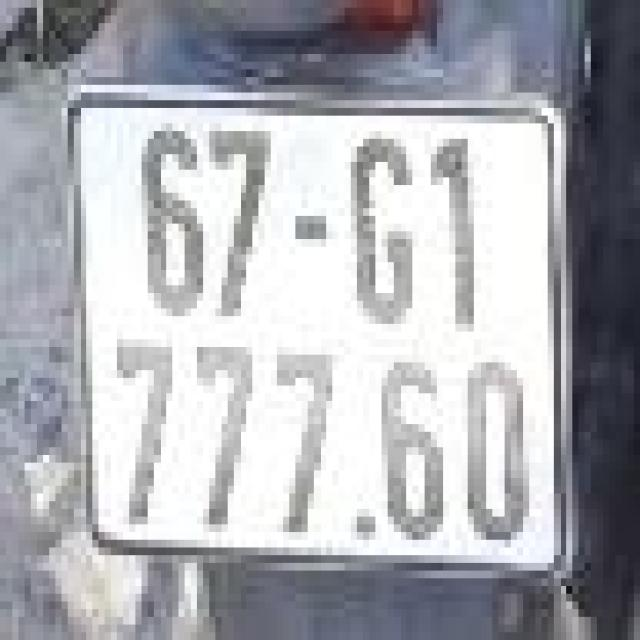0: (468, 351, 535, 544)
1: (425, 131, 492, 339)
6: (376, 354, 456, 548), (132, 127, 206, 320)
7: (104, 332, 184, 540), (206, 120, 280, 320), (194, 332, 261, 540), (274, 343, 341, 536)
G: (348, 127, 422, 336)
